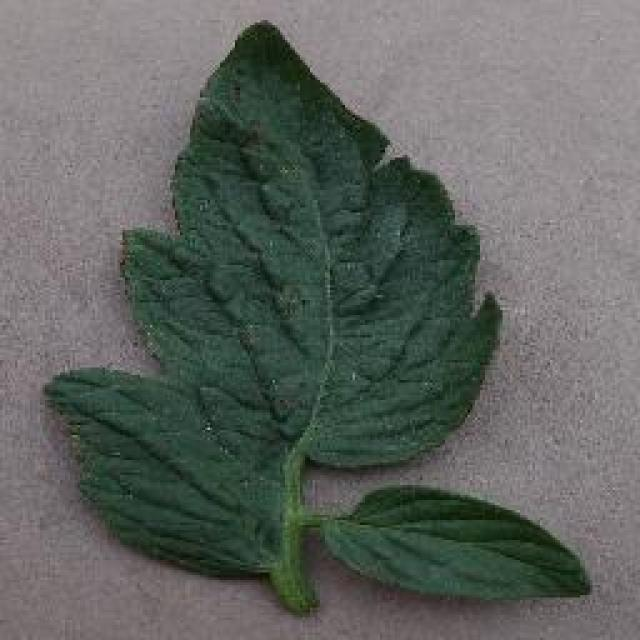Tomato___Bacterial_spot: (47, 17, 594, 622)
